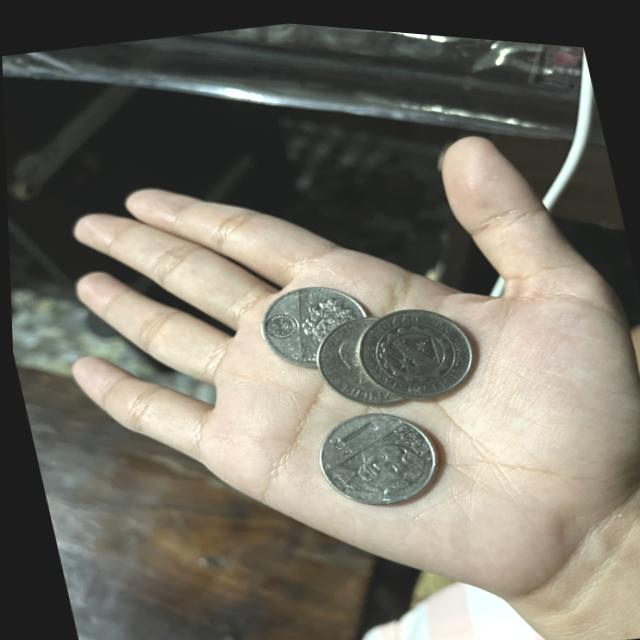1_New_Back: (294, 284, 358, 346)
1_New_Front: (316, 405, 398, 465)
1_Old_Back: (355, 288, 479, 404)
